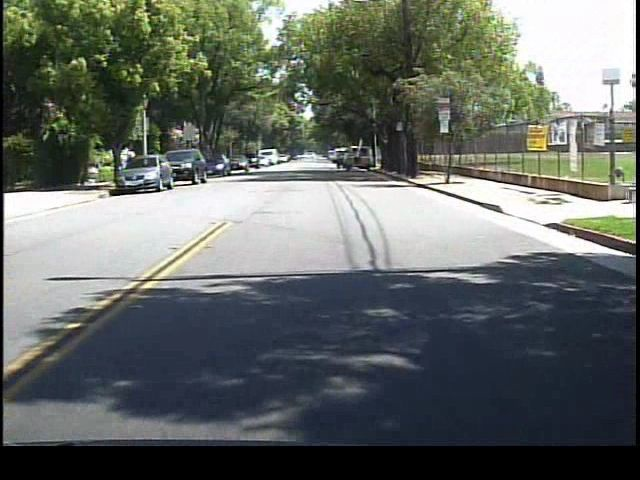person: (331, 146, 346, 172)
